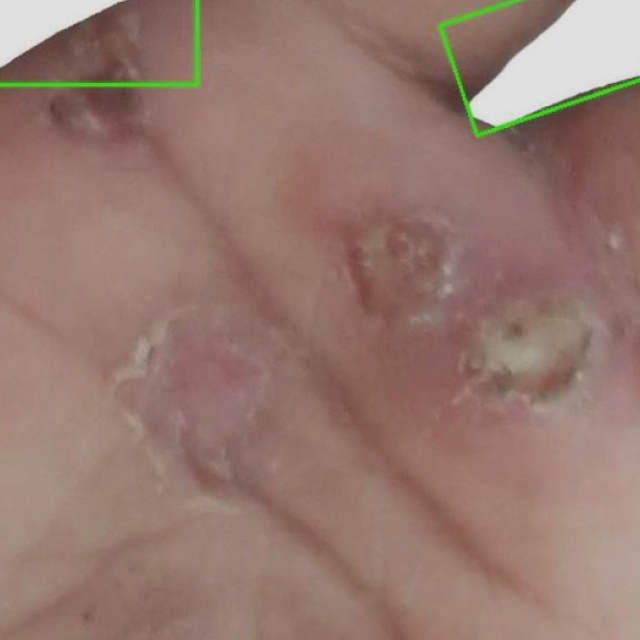Eczema: (434, 0, 639, 135), (0, 0, 196, 84)
